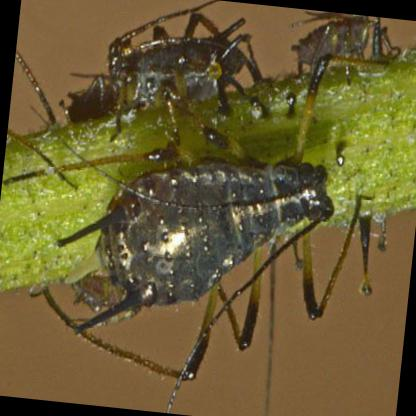uroleucon compositae: (42, 65, 335, 382)
